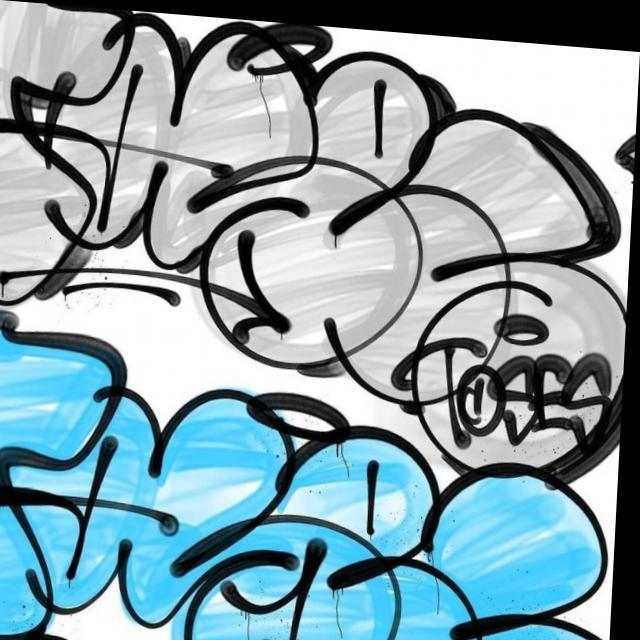-: (0, 0, 640, 487), (0, 297, 628, 640)
